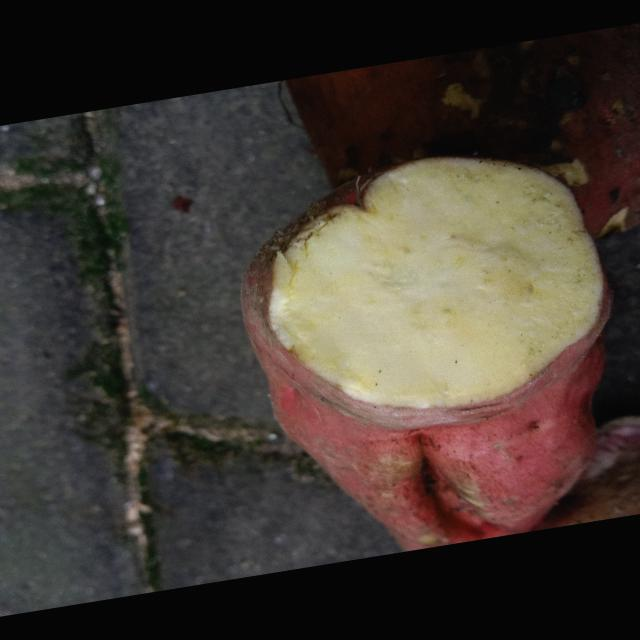Healthy Sweet Potato: (268, 158, 605, 409)
